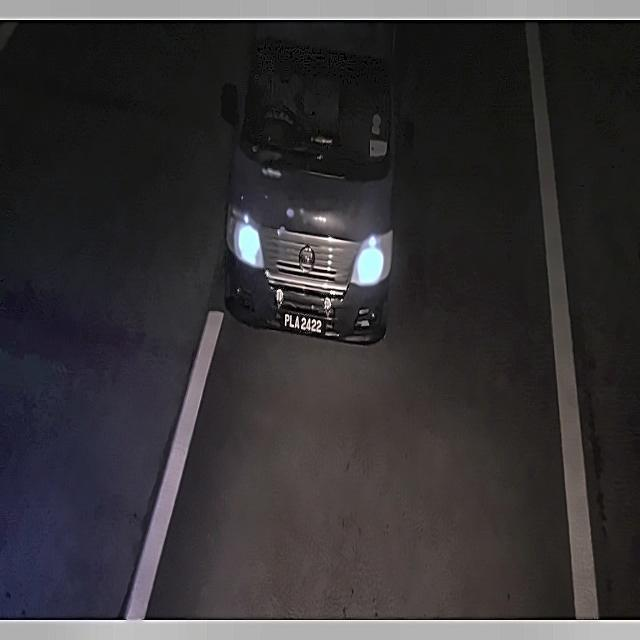car: (276, 308, 332, 343)
